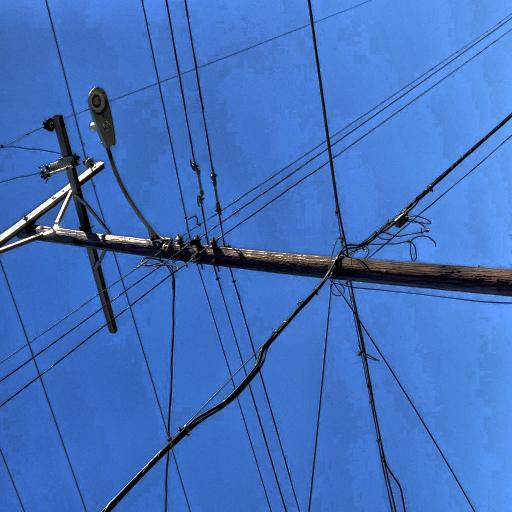insulator: (100, 33, 114, 49), (240, 160, 252, 175), (141, 96, 152, 112)
pole: (63, 124, 172, 512)
street light: (137, 210, 282, 307)
